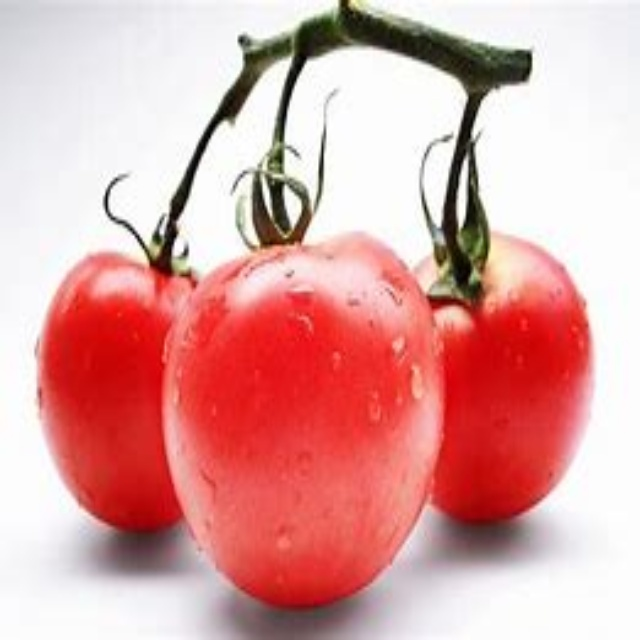tomato: (163, 233, 443, 609), (33, 247, 225, 554), (410, 222, 599, 526)
